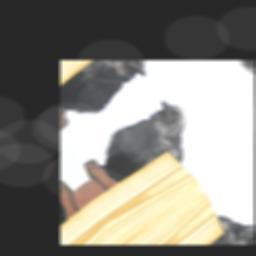Crow: (85, 90, 206, 205)
